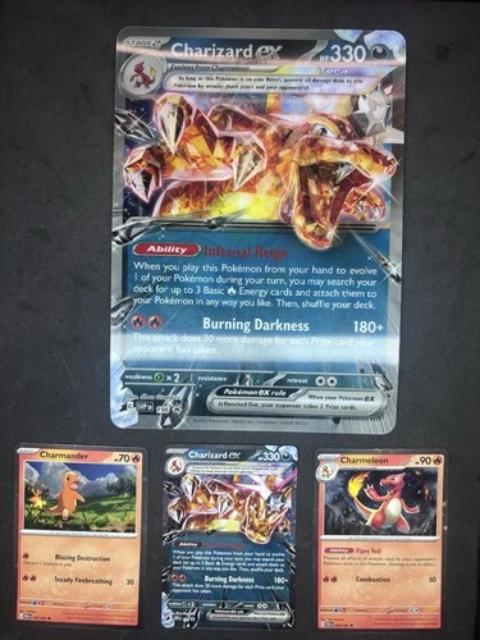Card: (105, 22, 408, 436), (160, 438, 300, 636), (4, 440, 143, 630), (315, 447, 447, 636)
Name: (166, 37, 285, 59)
